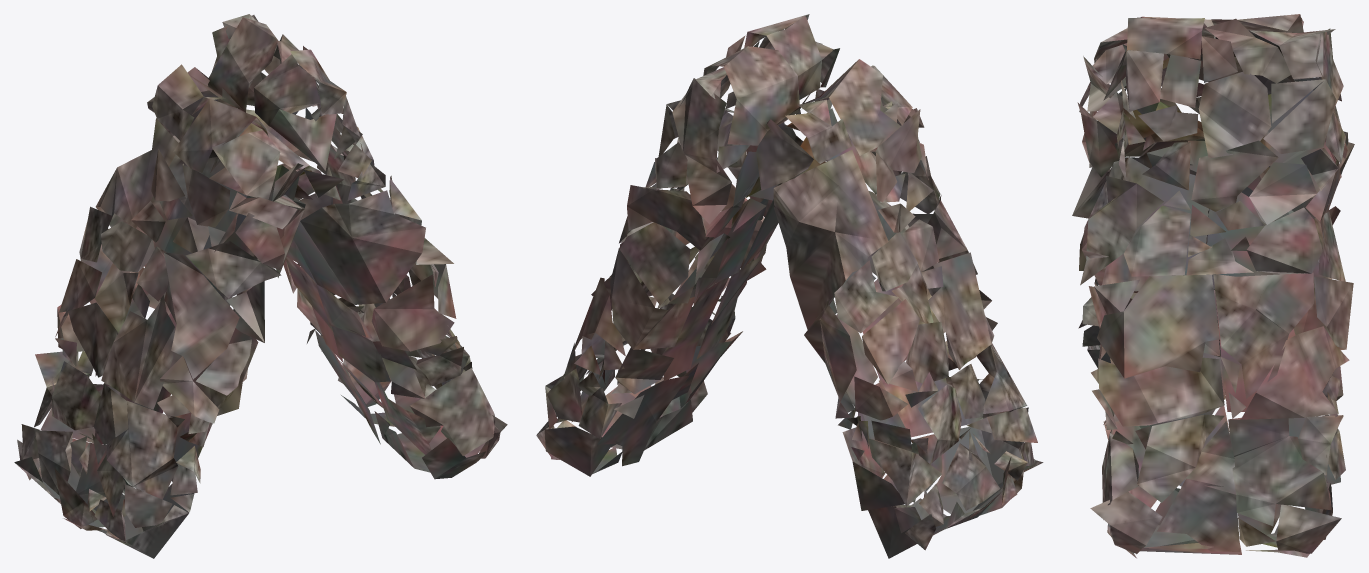
File: loc_sy_nat_wedge.glb
3 views of the same model, side by side, from view 1: azimuth 30°, elevation 25°; view 2: azimuth 150°, elevation 25°; view 3: azimuth 270°, elevation 25° (orthographic). The views are drawn at different scales.
Visible parts, largest first — view 1: tripo_node_50646180-ca65-45c8-b380-50c9ec683837; view 2: tripo_node_50646180-ca65-45c8-b380-50c9ec683837; view 3: tripo_node_50646180-ca65-45c8-b380-50c9ec683837.
Boxes of the visible parts, x1,y1,x2,y2 form: tripo_node_50646180-ca65-45c8-b380-50c9ec683837: (14, 14, 507, 558); tripo_node_50646180-ca65-45c8-b380-50c9ec683837: (536, 14, 1043, 558); tripo_node_50646180-ca65-45c8-b380-50c9ec683837: (1072, 14, 1354, 558).
Bounding box in the file's own units: 0.6389 × 0.6439 × 0.3478.
1 material, 1 textured.
